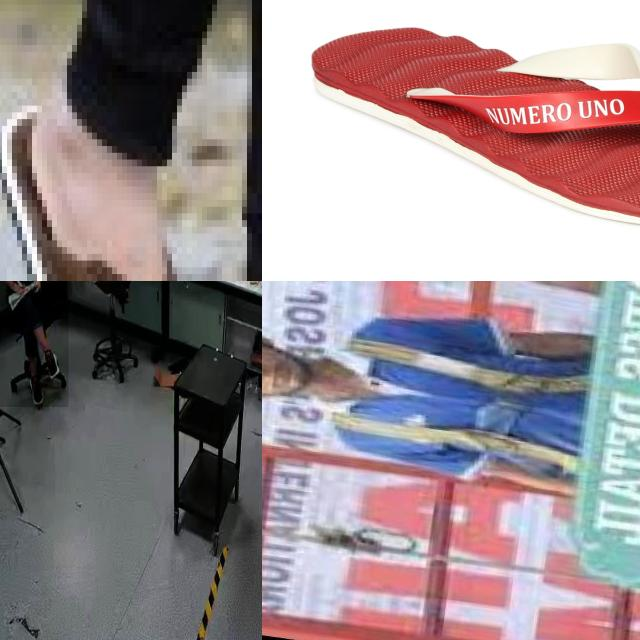Harness: (322, 336, 598, 470)
Sandals: (309, 25, 640, 231), (0, 74, 223, 281)
hand_noglove: (14, 281, 27, 295), (31, 281, 41, 293)
person: (0, 281, 69, 408)
shoes: (26, 366, 46, 411), (42, 348, 60, 382)
